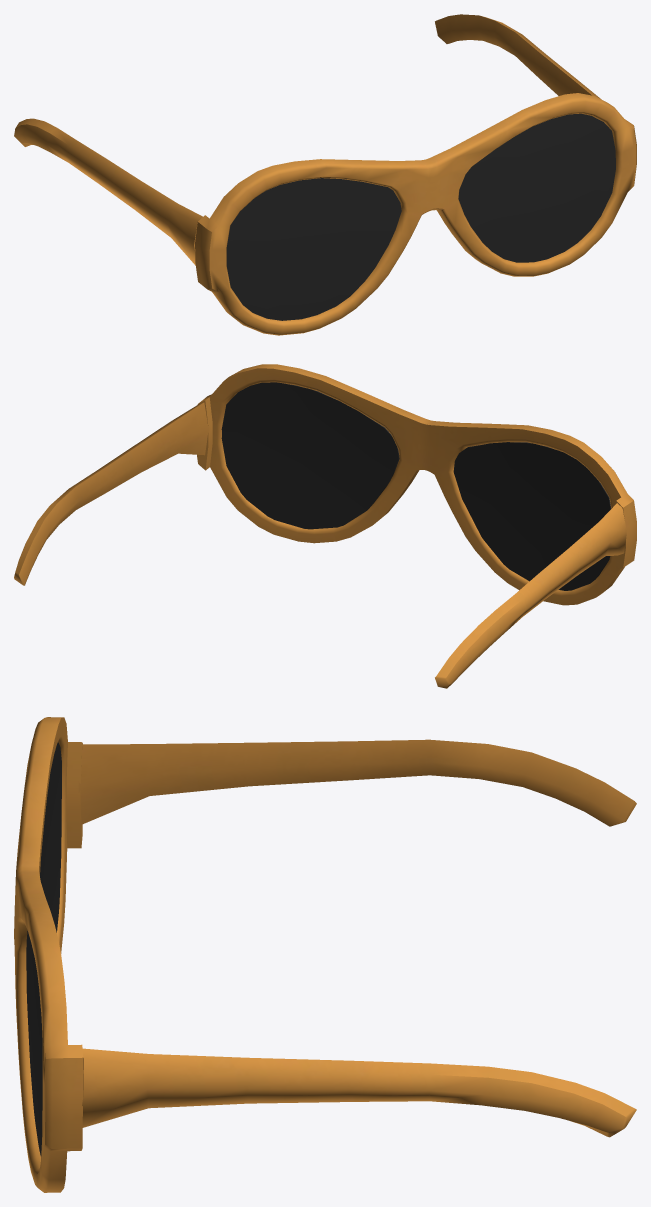
3 renders of one model, top to bottom at view 1: azimuth 30°, elevation 25°; view 2: azimuth 150°, elevation 25°; view 3: azimuth 270°, elevation 25°, orthographic. The views are drawn at different scales.
Parts seen in each view (by area): view 1: Glass4; view 2: Glass4; view 3: Glass4.
Boxes of the visible parts, x1=… form: Glass4: x1=14, y1=14, x2=636, y2=335; Glass4: x1=14, y1=364, x2=636, y2=688; Glass4: x1=14, y1=717, x2=636, y2=1192.
Bounding box in the file's own units: 48.62 × 16.94 × 37.63.
2 materials, 1 textured.
